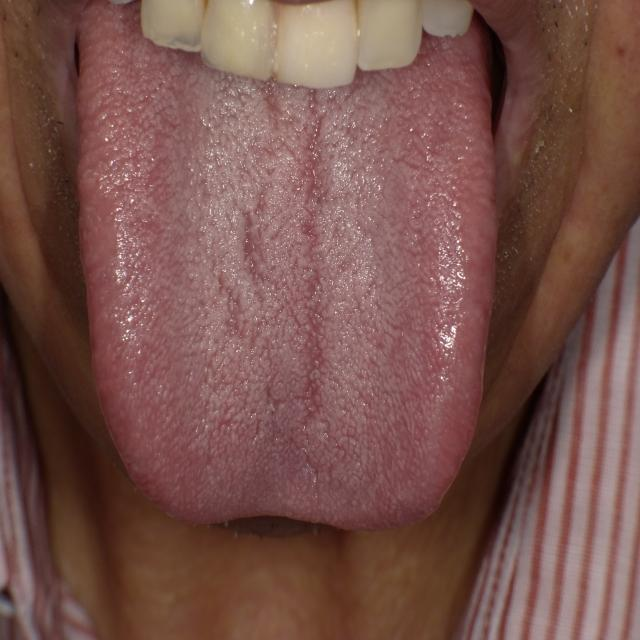baitaishe: (76, 2, 498, 533)
liewenshe: (297, 87, 326, 430)
